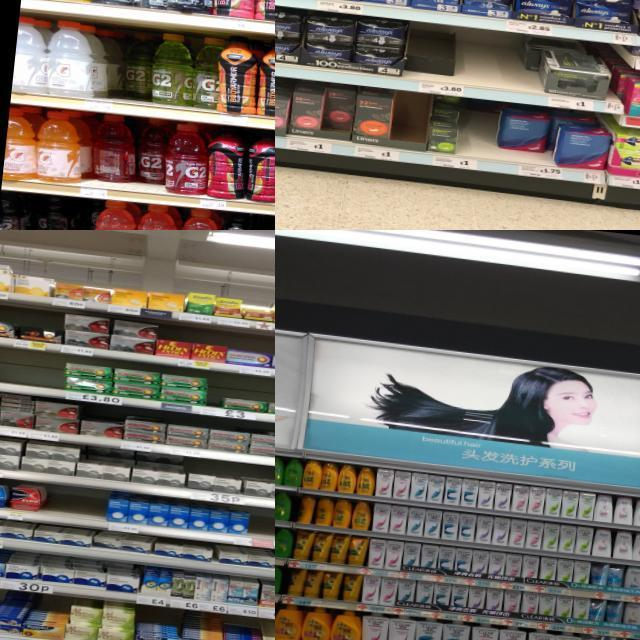empty: (452, 26, 520, 102), (0, 344, 65, 396), (44, 485, 108, 528), (456, 110, 499, 172), (249, 507, 275, 551)
